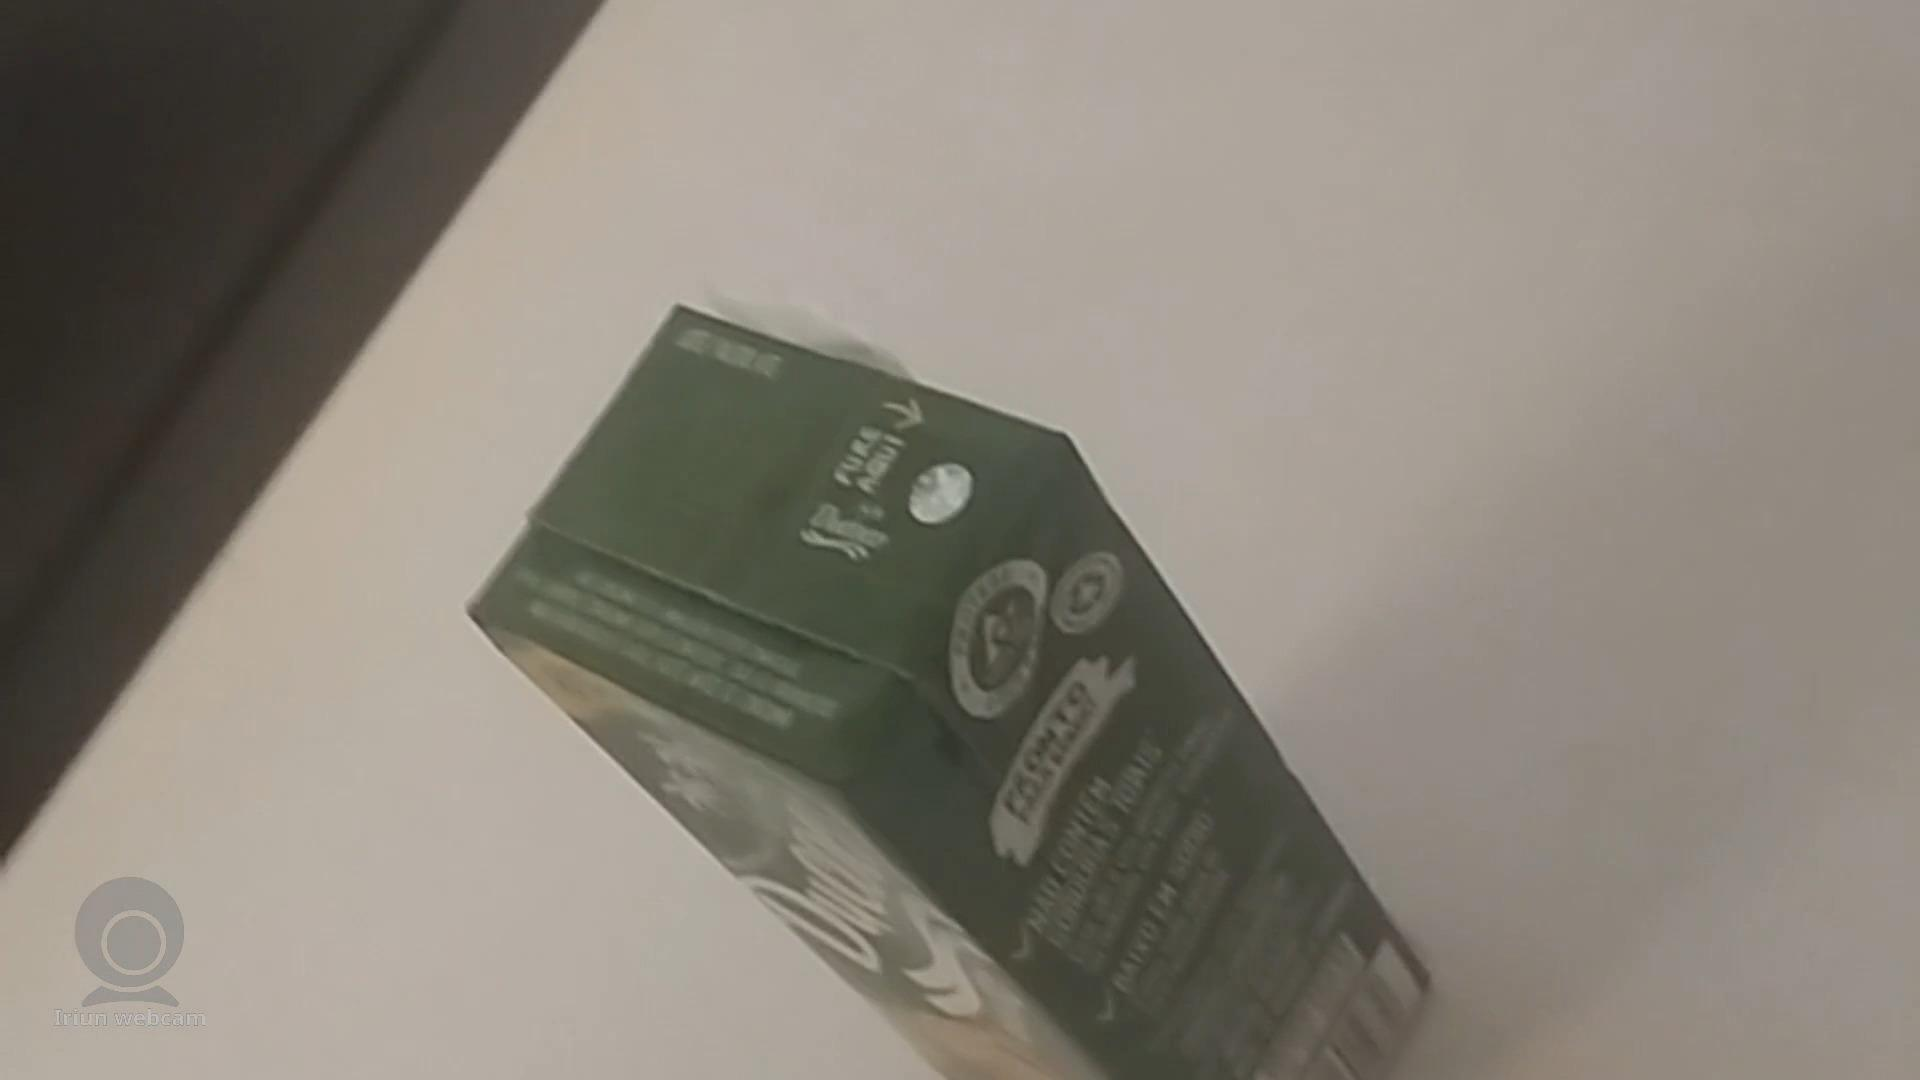coco: (469, 307, 1418, 1080)
